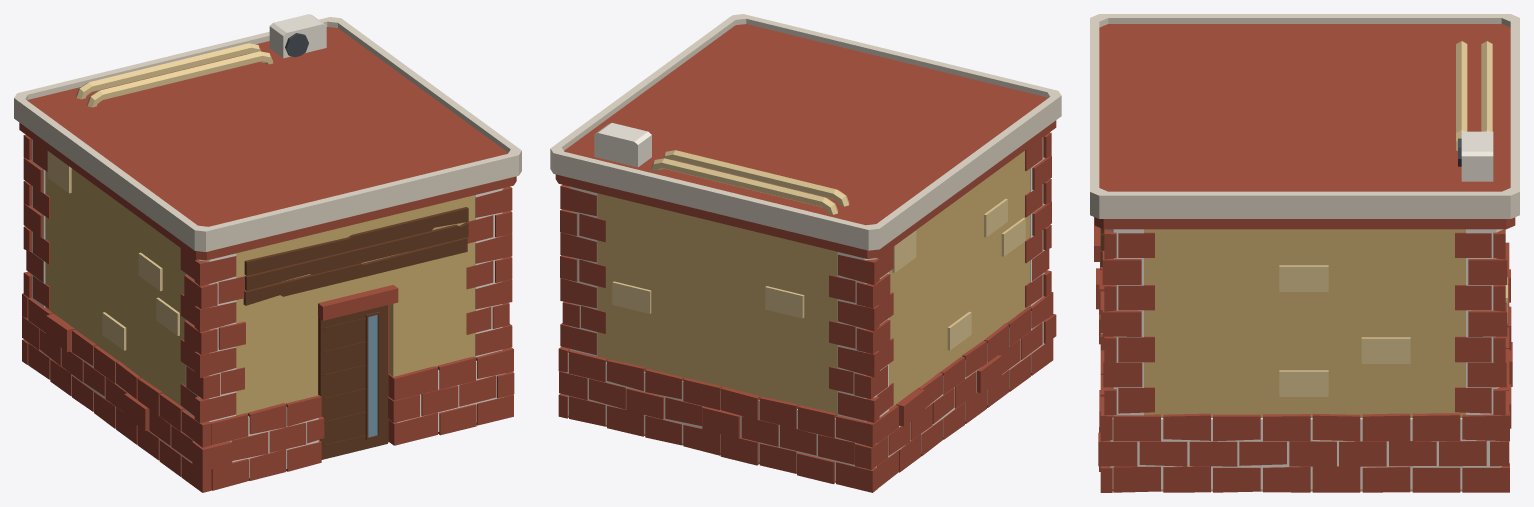
The model's file is q_1Story_Sign.obj.
The picture shows the model from 3 angles, left to right: view 1: azimuth 30°, elevation 25°; view 2: azimuth 150°, elevation 25°; view 3: azimuth 270°, elevation 25°; orthographic projection. The views are drawn at different scales.
Parts seen in each view (by area): view 1: 1Story_Sign_Cube.105; view 2: 1Story_Sign_Cube.105; view 3: 1Story_Sign_Cube.105.
Boxes of the visible parts, left/top/right/bottom form: 1Story_Sign_Cube.105: left=14, top=14, right=521, bottom=492; 1Story_Sign_Cube.105: left=550, top=14, right=1061, bottom=492; 1Story_Sign_Cube.105: left=1090, top=14, right=1519, bottom=492.
Bounding box in the file's own units: 2.15 × 1.79 × 2.15.
1 material, 1 textured.
